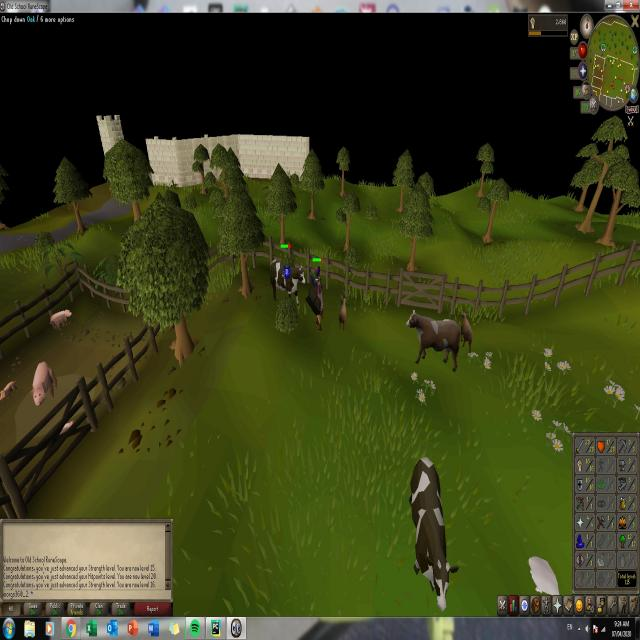cow: (405, 458, 461, 614), (405, 308, 462, 372), (267, 252, 308, 314)
